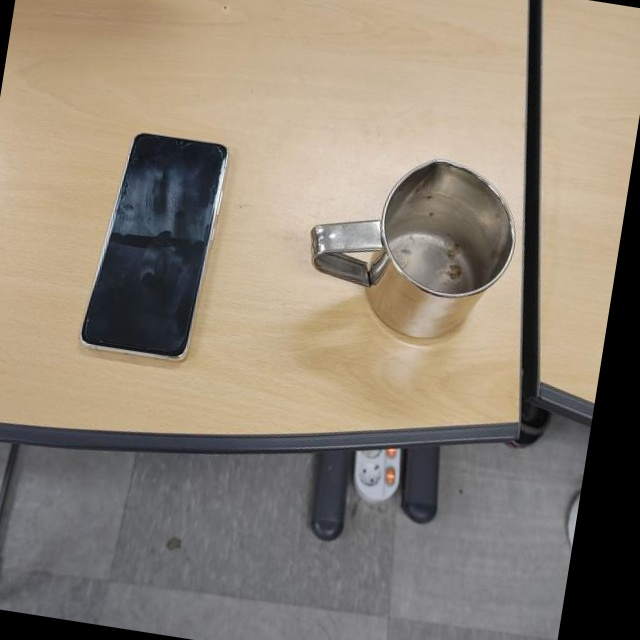cup: (294, 138, 527, 356)
phone: (76, 124, 231, 370)
